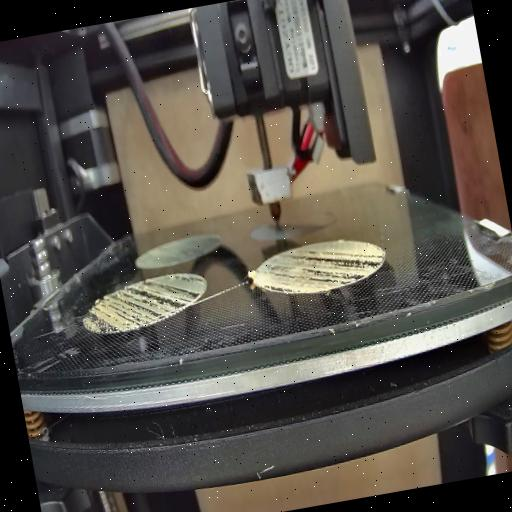under_extrusion: (78, 266, 208, 339), (257, 238, 390, 304)
